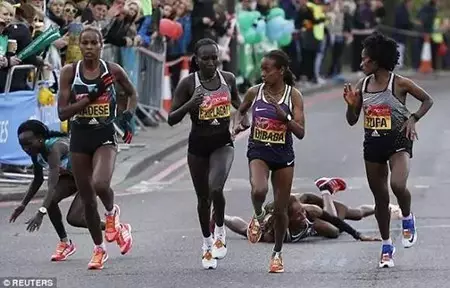10+: (1, 1, 450, 270)
down: (8, 123, 117, 260), (209, 181, 402, 250)
